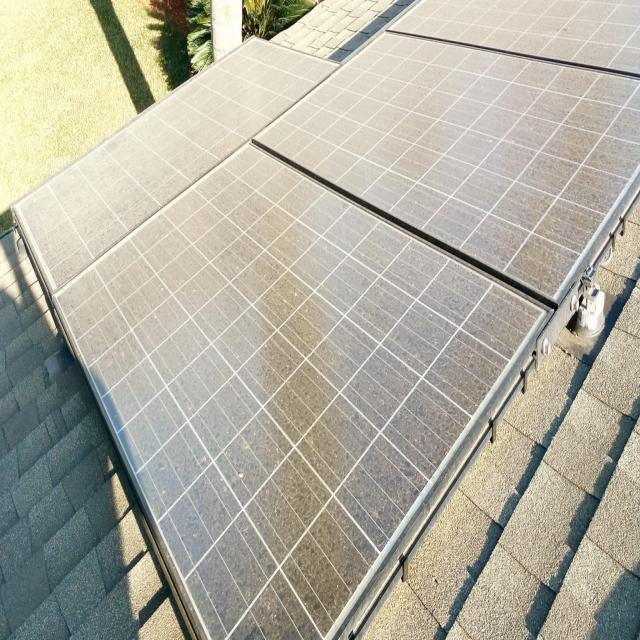dust-solar-panel: (13, 0, 640, 640)
